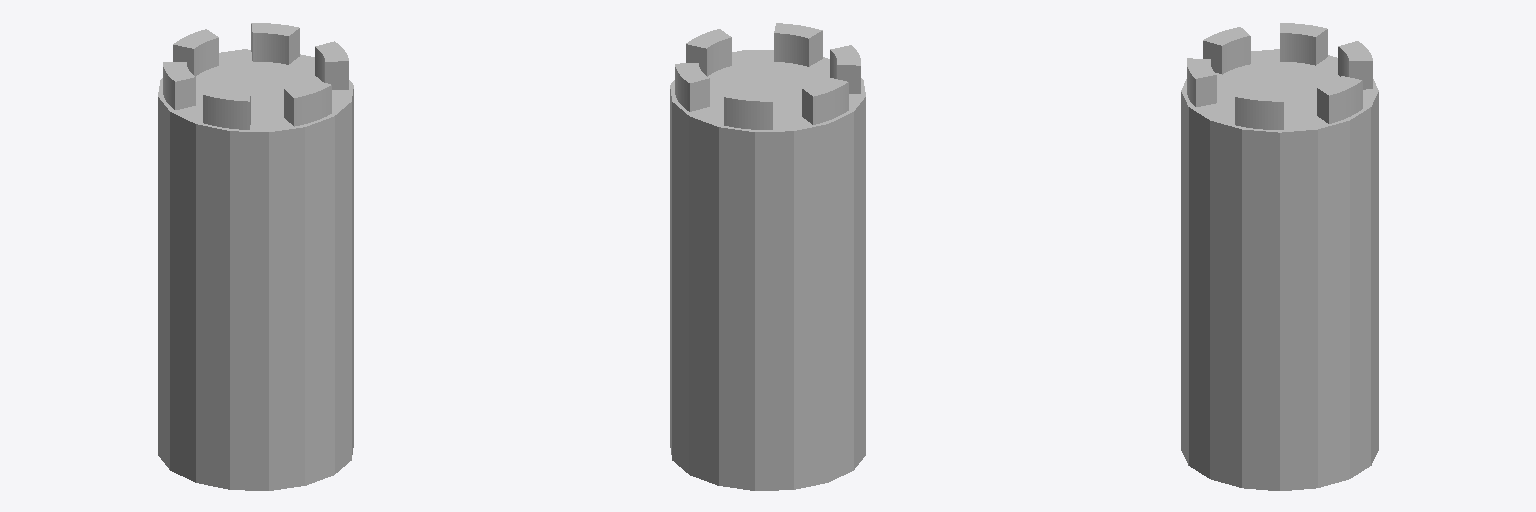
Rendered from CastleTower.obj.
The picture shows the model from 3 angles: view 1: azimuth 30°, elevation 25°; view 2: azimuth 150°, elevation 25°; view 3: azimuth 270°, elevation 25°; orthographic projection.
Parts seen in each view (by area): view 1: Boole_6, Boole_3, Boole, Boole_1, Boole_4, Boole_5, Boole_2; view 2: Boole_6, Boole_1, Boole_4, Boole_5, Boole_2, Boole_3, Boole; view 3: Boole_6, Boole_2, Boole_5, Boole_3, Boole, Boole_1, Boole_4.
Boxes of the visible parts, x1,y1,x2,y2 form: Boole_6: [158, 49, 353, 490]; Boole_3: [251, 23, 299, 64]; Boole: [203, 86, 250, 129]; Boole_1: [284, 79, 331, 126]; Boole_4: [173, 29, 218, 76]; Boole_5: [163, 62, 195, 109]; Boole_2: [315, 41, 348, 89]; Boole_6: [670, 50, 865, 490]; Boole_1: [774, 23, 822, 66]; Boole_4: [724, 88, 772, 129]; Boole_5: [802, 77, 848, 124]; Boole_2: [686, 29, 731, 76]; Boole_3: [675, 63, 709, 111]; Boole: [830, 45, 860, 93]; Boole_6: [1181, 49, 1378, 490]; Boole_2: [1235, 88, 1283, 129]; Boole_5: [1280, 23, 1327, 65]; Boole_3: [1317, 76, 1362, 123]; Boole: [1203, 27, 1250, 74]; Boole_1: [1187, 58, 1216, 106]; Boole_4: [1338, 41, 1372, 89].
Bounding box in the file's own units: 100 × 216 × 100.